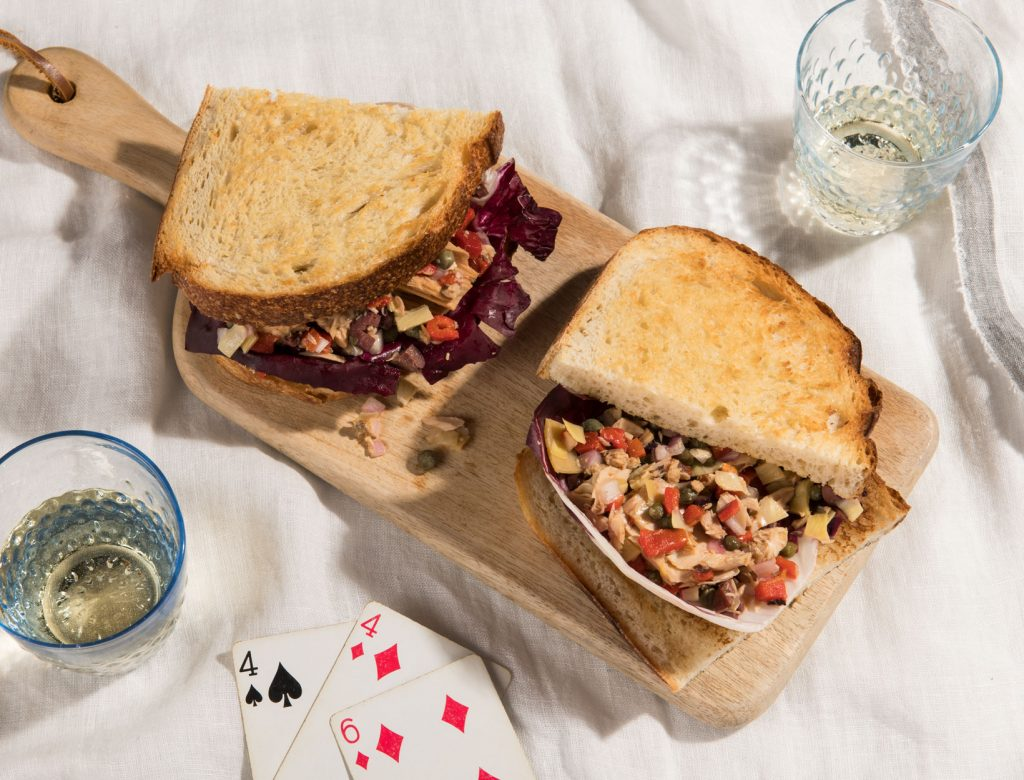sandwich: (474, 202, 953, 712), (127, 60, 543, 448)
